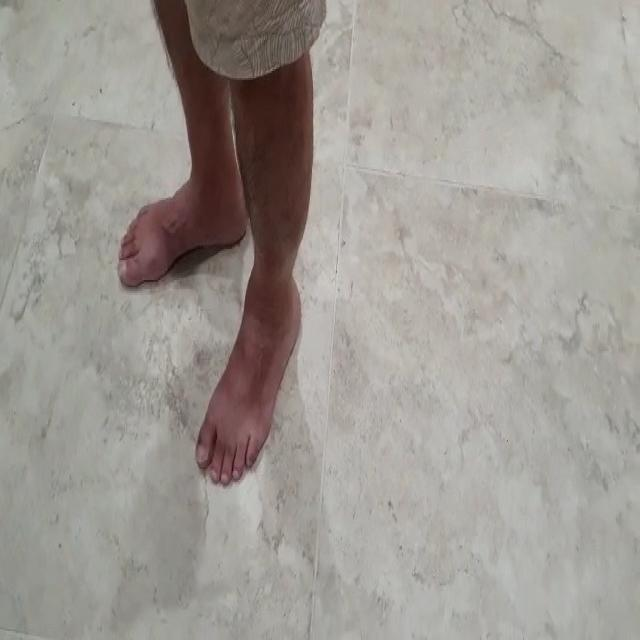no-boots: (189, 248, 309, 511), (118, 164, 255, 302)
